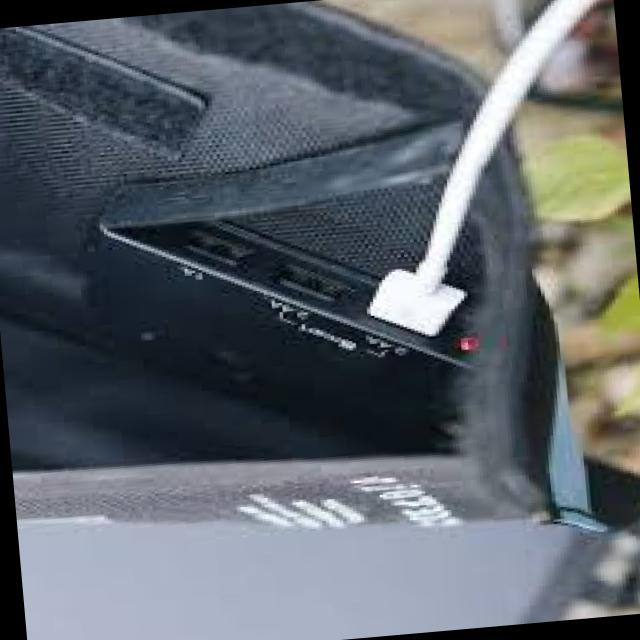power_bank: (68, 178, 514, 491)
